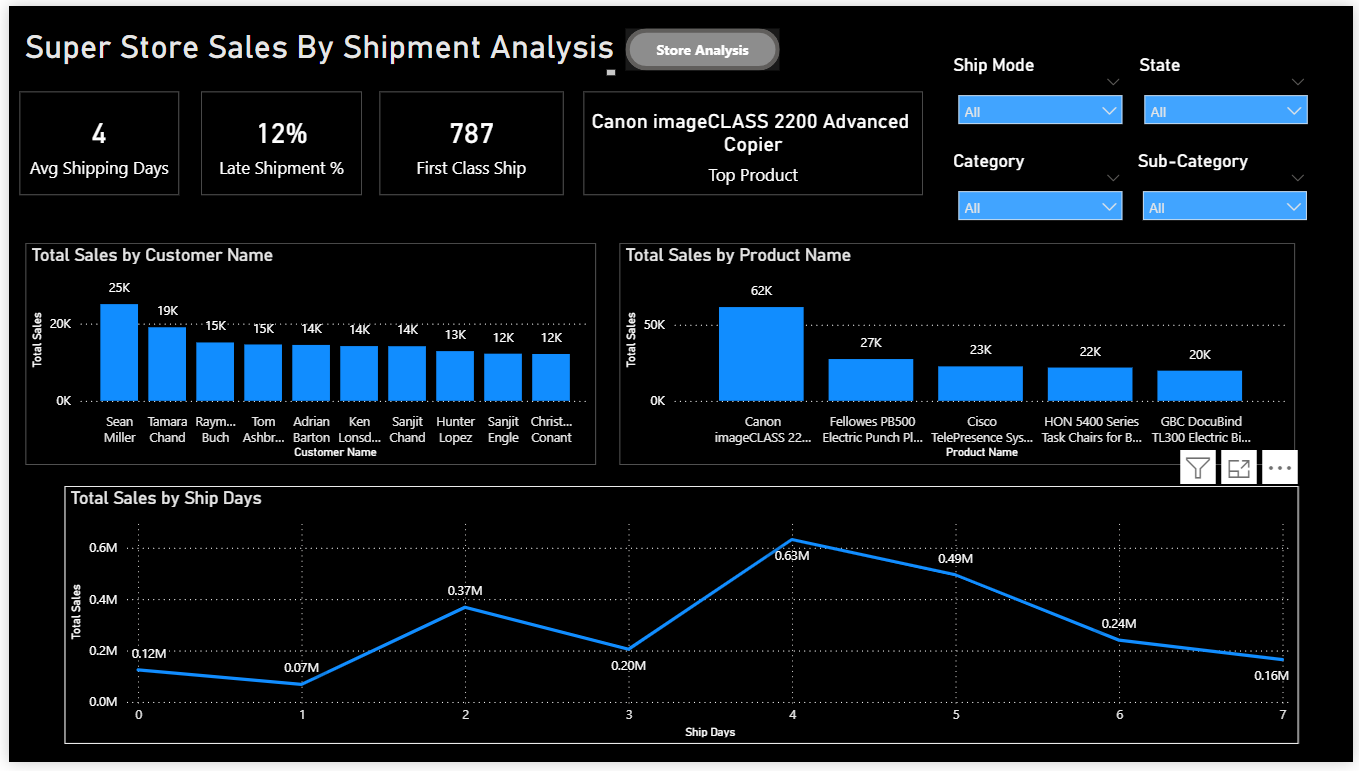

The dashboard page shown, as its layout file describes it:
{"tool":"powerbi","page":{"name":"Shipment Analysis","canvas":[1280,720],"ordinal":1},"visuals":[{"type":"card","fields":{"Values":["Sample - Superstore.Avg Shipping Days"]},"box":[10,81.7,151.7,98.3],"z":0},{"type":"card","fields":{"Values":["Sample - Superstore.Late Shipment %"]},"box":[183.3,81.7,153.3,98.3],"z":1000},{"type":"card","fields":{"Values":["Sample - Superstore.First Class Ship"]},"box":[353.3,81.7,175,98.3],"z":2000},{"type":"card","fields":{"Values":["Sample - Superstore.Top Product"]},"box":[546.7,81.7,323.3,98.3],"z":3000},{"type":"clusteredColumnChart","fields":{"Category":["Sample - Superstore.Customer Name"],"Y":["Sample - Superstore.Total Sales"]},"box":[15.1,225,543.4,211.3],"z":4000},{"type":"clusteredColumnChart","fields":{"Y":["Sample - Superstore.Total Sales"],"Category":["Sample - Superstore.Product Name"]},"box":[581.8,225,643.6,211.3],"z":5000},{"type":"lineChart","fields":{"Y":["Sample - Superstore.Total Sales"],"Category":["Sample - Superstore.Ship Days"]},"box":[52.1,456.9,1176,245.6],"z":6000},{"type":"slicer","title":"Ship Mode","fields":{"Values":["Sample - Superstore.Ship Mode"]},"box":[894.4,45.7,176.2,87.5],"z":7000},{"type":"textbox","title":"Super Store Sales By Shipment Analysis","box":[9.6,20.6,572.2,50.8],"z":8000,"group":"g1"},{"type":"slicer","title":"State","fields":{"Values":["Sample - Superstore.State"]},"box":[1071.5,46.1,175,86.7],"z":8000},{"type":"slicer","title":"Category","fields":{"Values":["Sample - Superstore.Category"]},"box":[894.4,137,176.2,87.5],"z":9000},{"type":"slicer","title":"Sub-Category","fields":{"Values":["Sample - Superstore.Sub-Category"]},"box":[1070.7,136.7,176.2,87.5],"z":10000},{"type":"group","id":"g1","title":"Group 1","box":[9.6,20.6,572.2,50.8],"z":11000},{"type":"actionButton","box":[587.3,22,146.8,39.8],"z":12000}]}

Visuals, with their boxes in screenshot pixels (x1, y1, x2, y2), scaled from the page's 1280x720 canvas onto the 1359x771 screenshot:
card - Sample - Superstore.Avg Shipping Days: [x1=11, y1=87, x2=172, y2=193]
card - Sample - Superstore.Late Shipment %: [x1=195, y1=87, x2=357, y2=193]
card - Sample - Superstore.First Class Ship: [x1=375, y1=87, x2=561, y2=193]
card - Sample - Superstore.Top Product: [x1=580, y1=87, x2=924, y2=193]
clusteredColumnChart - Sample - Superstore.Customer Name x Sample - Superstore.Total Sales: [x1=16, y1=241, x2=593, y2=467]
clusteredColumnChart - Sample - Superstore.Total Sales x Sample - Superstore.Product Name: [x1=618, y1=241, x2=1301, y2=467]
lineChart - Sample - Superstore.Total Sales x Sample - Superstore.Ship Days: [x1=55, y1=489, x2=1304, y2=752]
"Ship Mode" slicer: [x1=950, y1=49, x2=1137, y2=143]
"Super Store Sales By Shipment Analysis" textbox: [x1=10, y1=22, x2=618, y2=76]
"State" slicer: [x1=1138, y1=49, x2=1323, y2=142]
"Category" slicer: [x1=950, y1=147, x2=1137, y2=240]
"Sub-Category" slicer: [x1=1137, y1=146, x2=1324, y2=240]
"Group 1" group: [x1=10, y1=22, x2=618, y2=76]
actionButton: [x1=624, y1=24, x2=779, y2=66]
